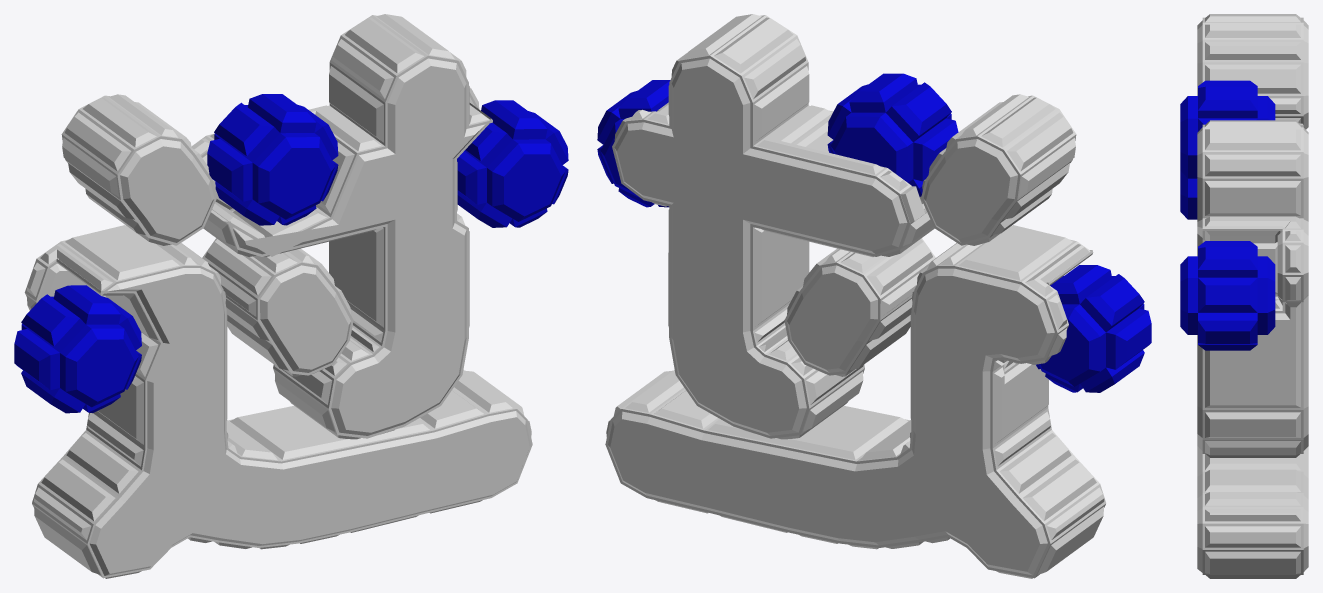
Rendered from Ch_China_过_01.fbx.
The picture shows the model from 3 angles, left to right: view 1: azimuth 30°, elevation 25°; view 2: azimuth 150°, elevation 25°; view 3: azimuth 270°, elevation 25°; orthographic projection. The views are drawn at different scales.
Visible parts, largest first — view 1: sphere1; view 2: sphere1; view 3: sphere1.
Part boxes in pixels (x1=…): sphere1: x1=14, y1=14, x2=568, y2=578; sphere1: x1=597, y1=14, x2=1151, y2=578; sphere1: x1=1180, y1=14, x2=1308, y2=578.
Bounding box in the file's own units: 1.1 × 0.9206 × 0.2541.
